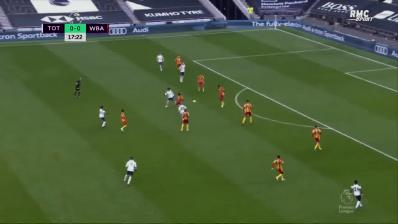football: (190, 98, 197, 104)
player: (348, 178, 368, 211), (121, 155, 139, 188), (310, 124, 326, 155), (272, 154, 288, 184), (240, 99, 255, 126), (214, 84, 228, 110), (98, 105, 110, 130), (179, 109, 192, 132), (164, 86, 176, 110), (118, 108, 129, 134), (194, 74, 208, 94), (177, 62, 188, 85), (156, 51, 166, 73), (176, 102, 186, 113), (175, 92, 183, 104), (175, 54, 182, 66)
referee: (73, 76, 85, 98)
